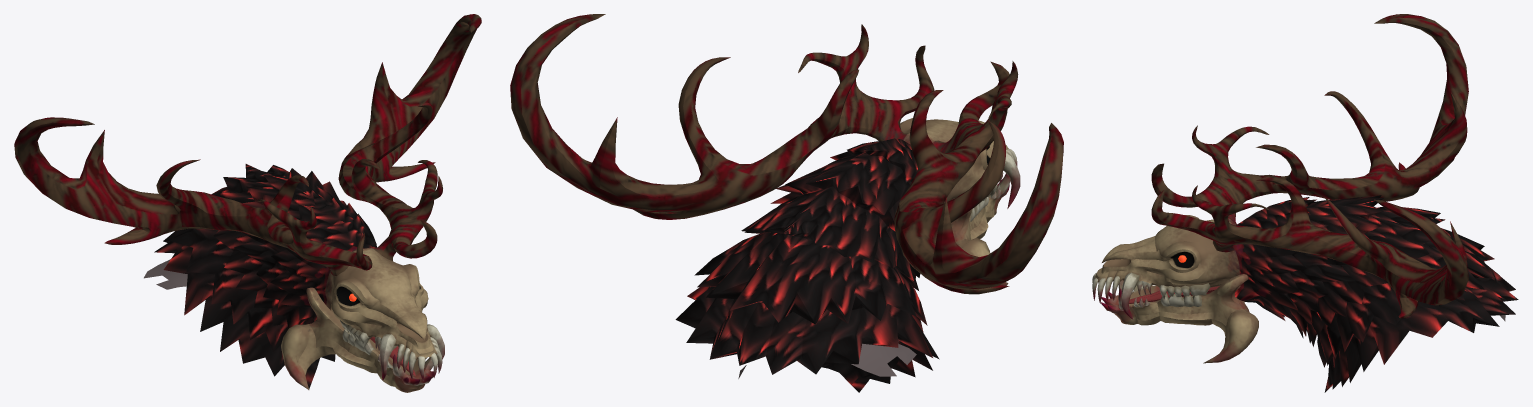
File: Wendigo_Head.fbx
3 renders of one model, left to right at view 1: azimuth 30°, elevation 25°; view 2: azimuth 150°, elevation 25°; view 3: azimuth 270°, elevation 25°, orthographic. The views are drawn at different scales.
Visible parts, largest first — view 1: Wendigo.001; view 2: Wendigo.001; view 3: Wendigo.001.
Part boxes in pixels (<box>): Wendigo.001: <box>14,14,481,392</box>; Wendigo.001: <box>510,14,1063,392</box>; Wendigo.001: <box>1092,14,1518,392</box>.
Size of the model in its own units: 133 by 82.25 by 112.
